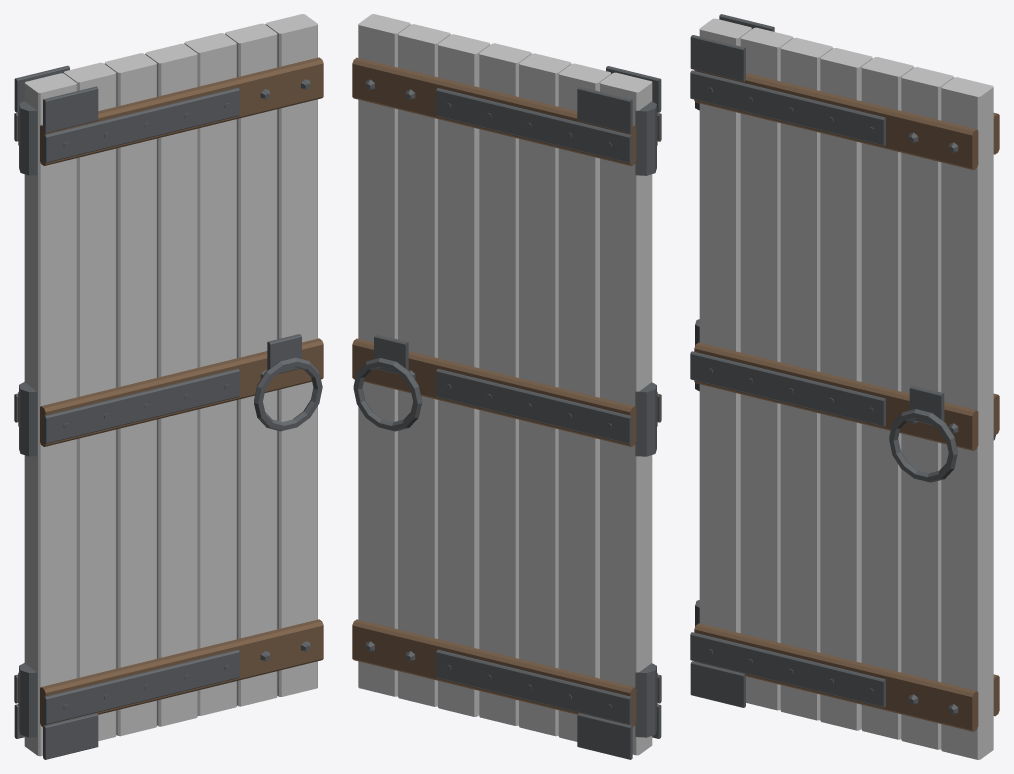
Rendered from mahntor_gate_oak.glb.
3 renders of one model, left to right at view 1: azimuth 30°, elevation 25°; view 2: azimuth 150°, elevation 25°; view 3: azimuth 330°, elevation 25°, orthographic.
Parts seen in each view (by area): view 1: mahntor_gate_oak.doorboard, mahntor_gate_oak.iron, mahntor_gate_oak.oak; view 2: mahntor_gate_oak.doorboard, mahntor_gate_oak.iron, mahntor_gate_oak.oak; view 3: mahntor_gate_oak.doorboard, mahntor_gate_oak.iron, mahntor_gate_oak.oak.
Part boxes in pixels (x1,y1,x2,y2): mahntor_gate_oak.doorboard: (24, 14, 317, 756); mahntor_gate_oak.iron: (14, 65, 322, 759); mahntor_gate_oak.oak: (18, 57, 323, 726); mahntor_gate_oak.doorboard: (358, 14, 652, 755); mahntor_gate_oak.iron: (353, 66, 661, 759); mahntor_gate_oak.oak: (352, 57, 657, 726); mahntor_gate_oak.doorboard: (699, 18, 993, 759); mahntor_gate_oak.iron: (690, 14, 995, 714); mahntor_gate_oak.oak: (694, 70, 999, 731).
Size of the model in its own units: 3.3 by 7.2 by 0.8866.
